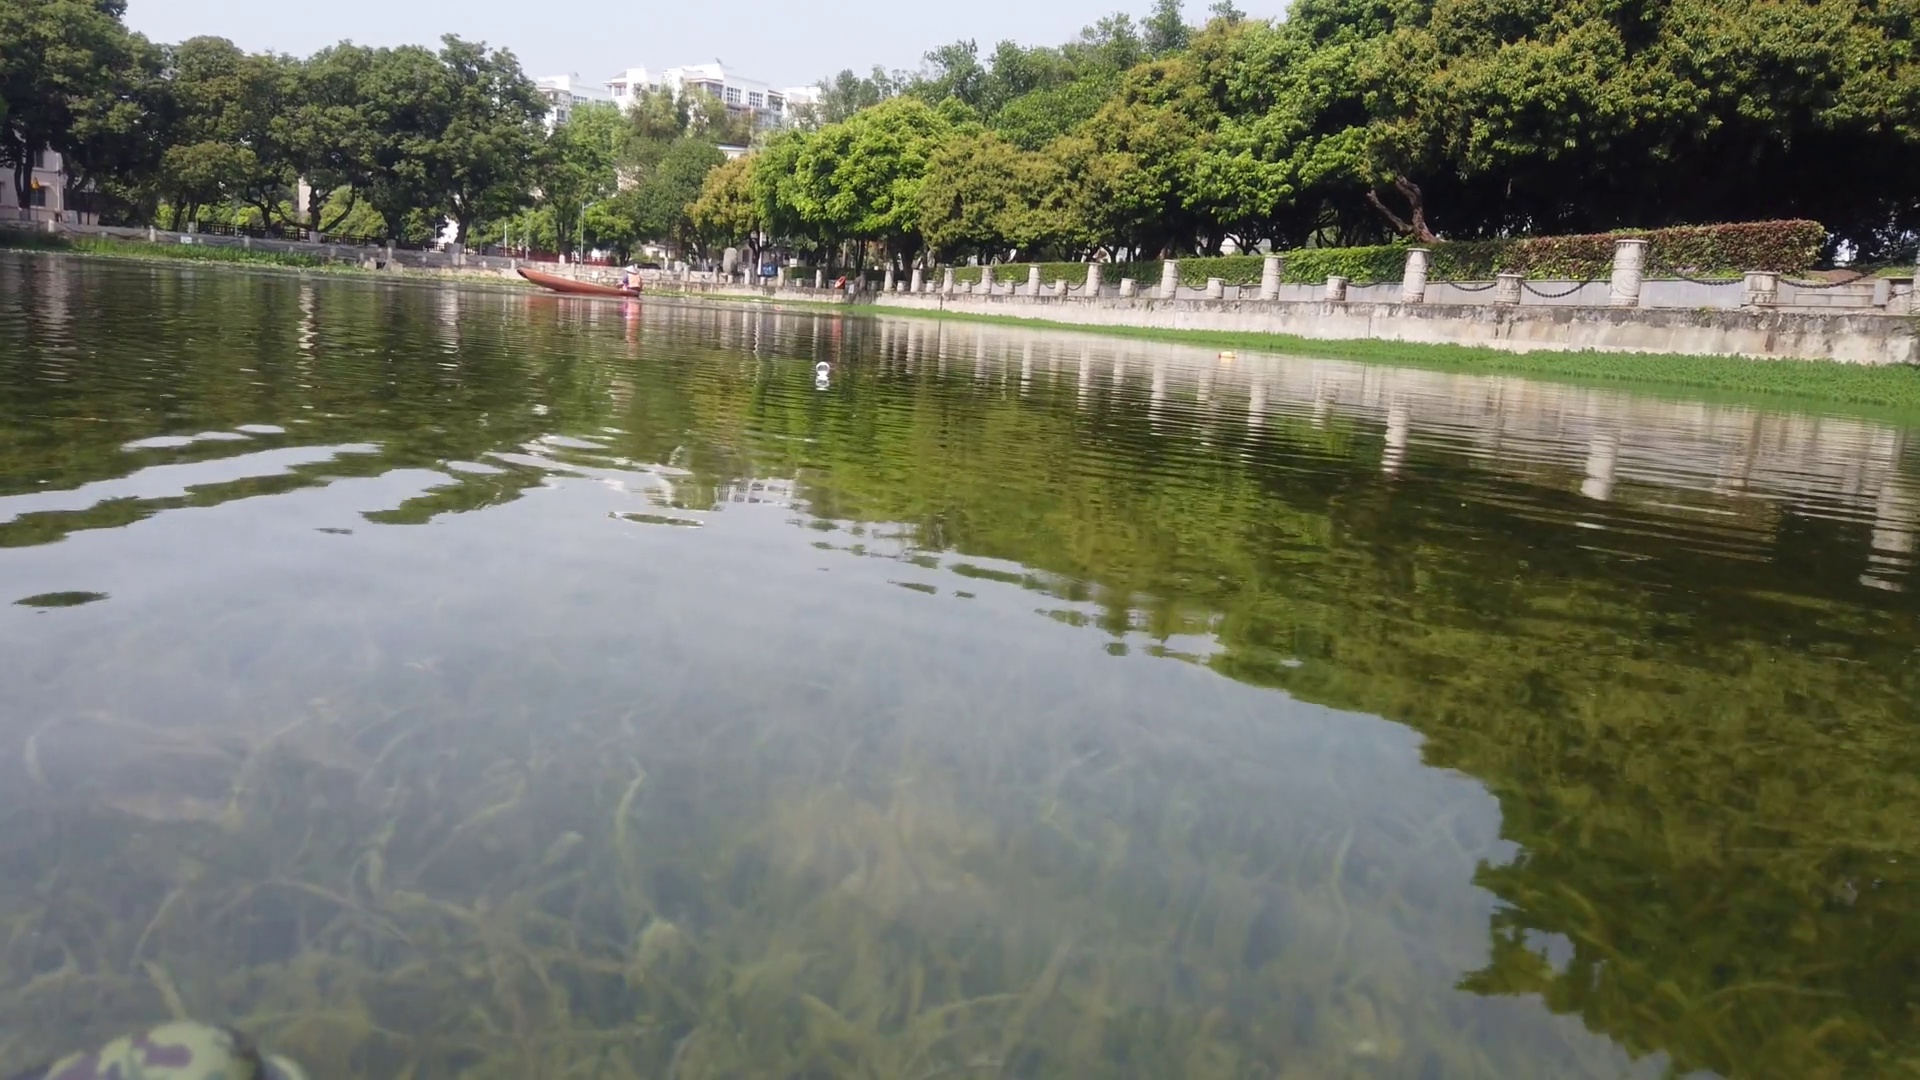bottle: (812, 357, 831, 376), (1217, 349, 1238, 361)
